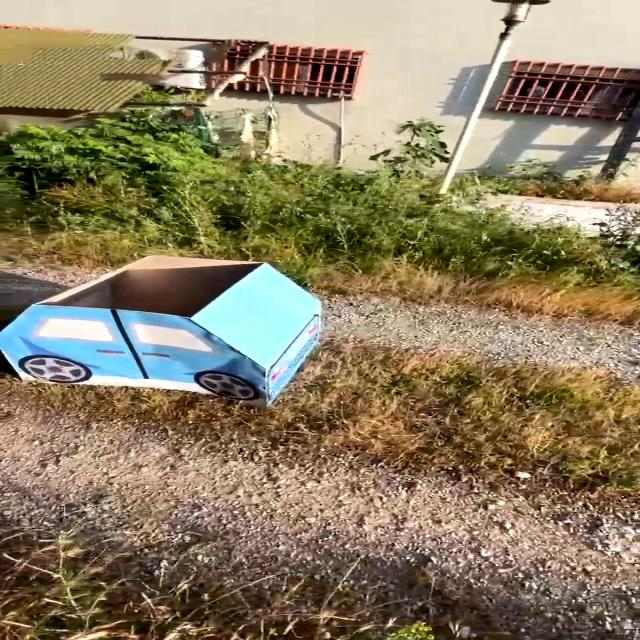blue_car: (0, 227, 357, 427)
